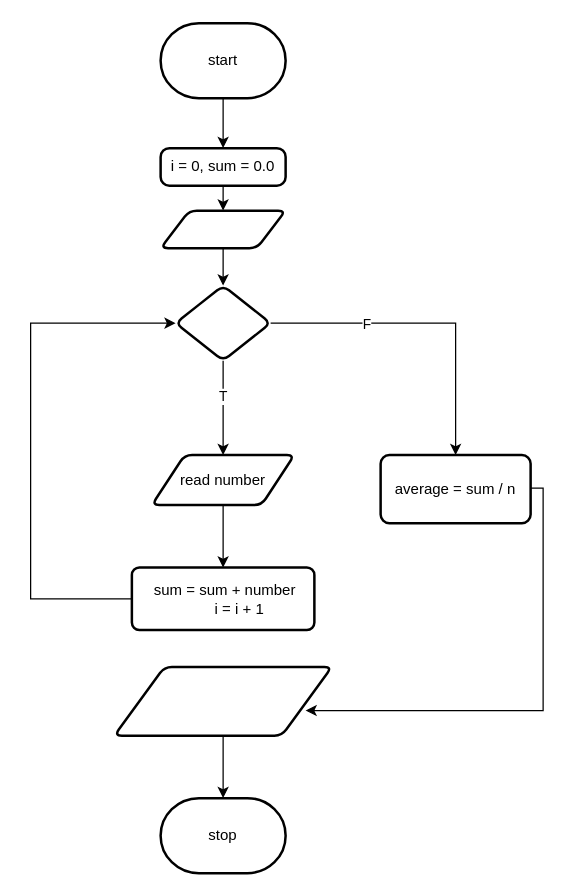
Some shapes in this 575 by 895 pixel diagram are drawn without their labels. Here are the shapes that lost their labels. From the top down, the box of each, then its label:
(159, 209, 286, 249): read n
(174, 284, 271, 361): i < n
(112, 665, 332, 736): print sum print average
